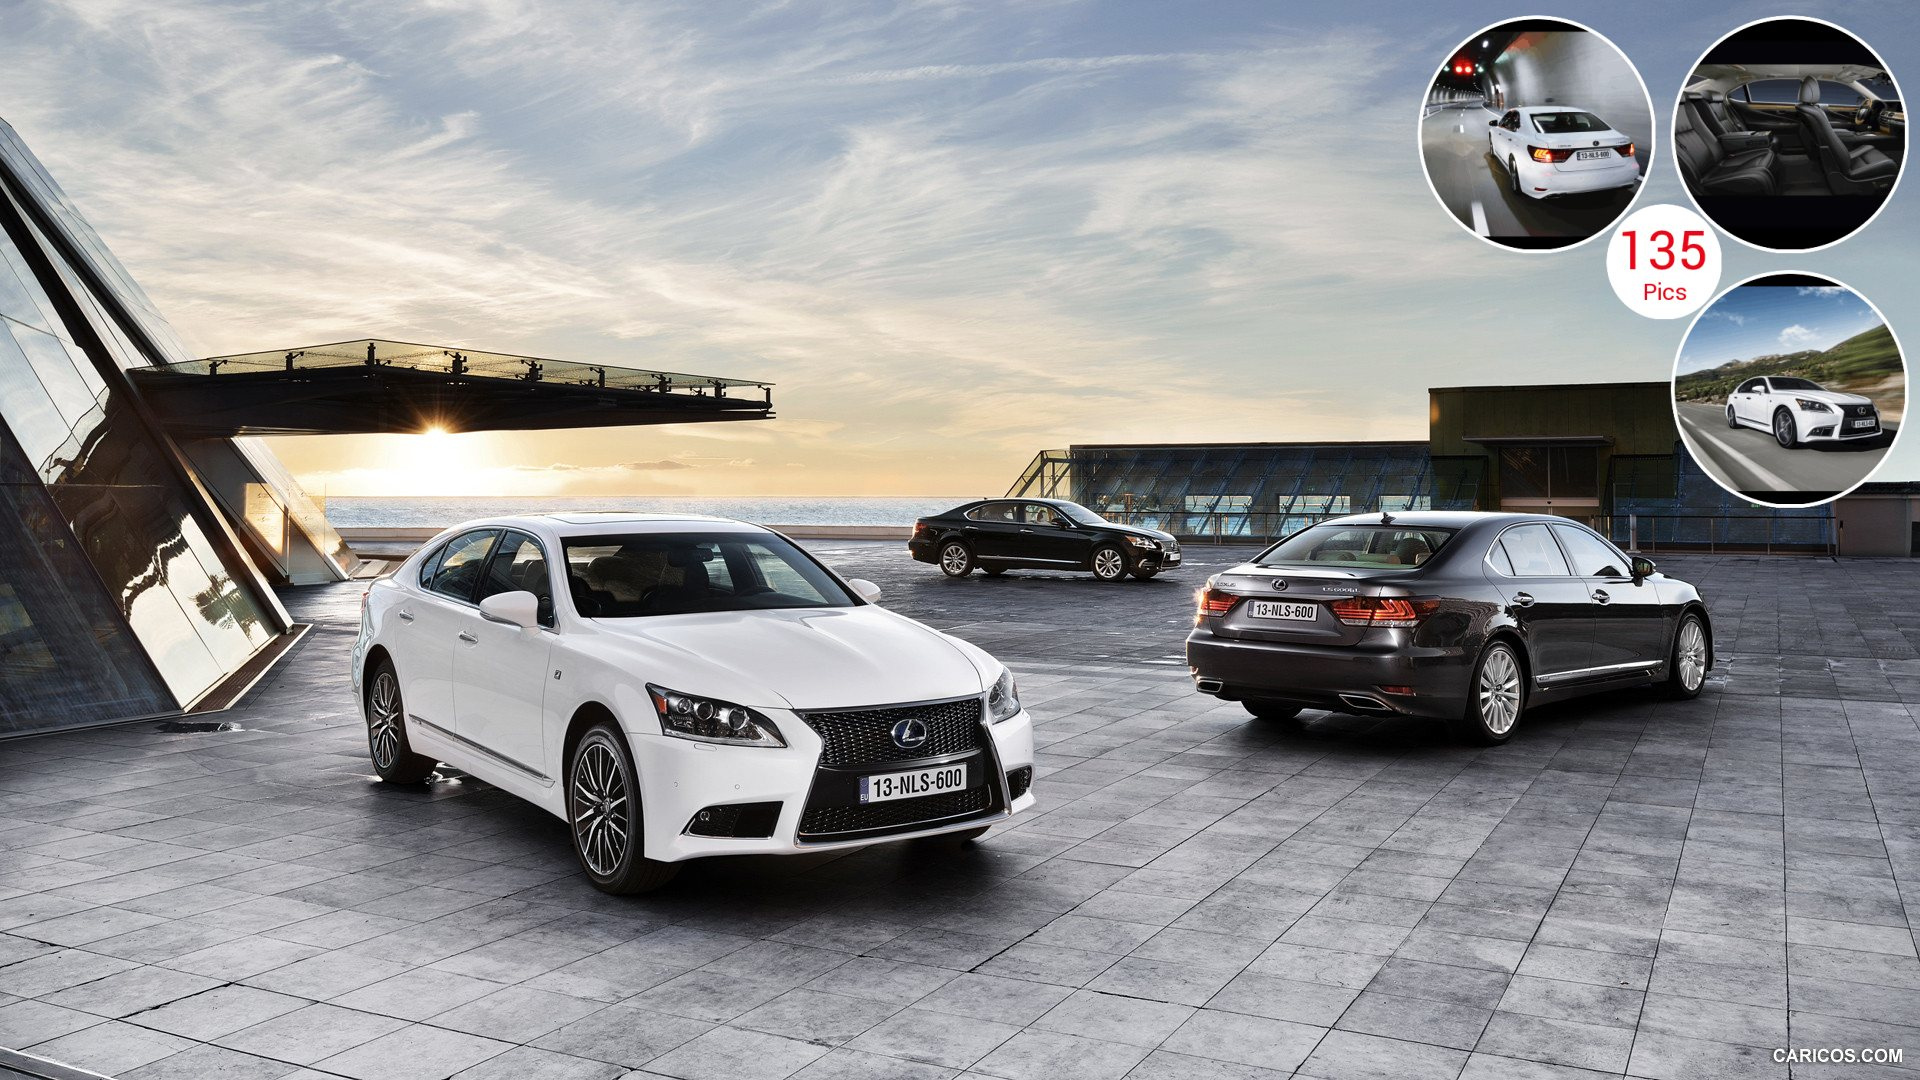car: (311, 496, 1089, 905), (1185, 477, 1745, 765), (889, 468, 1180, 596)
